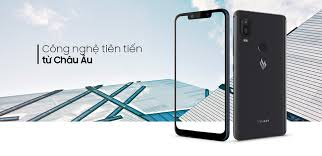vsmart: (227, 9, 290, 140)
